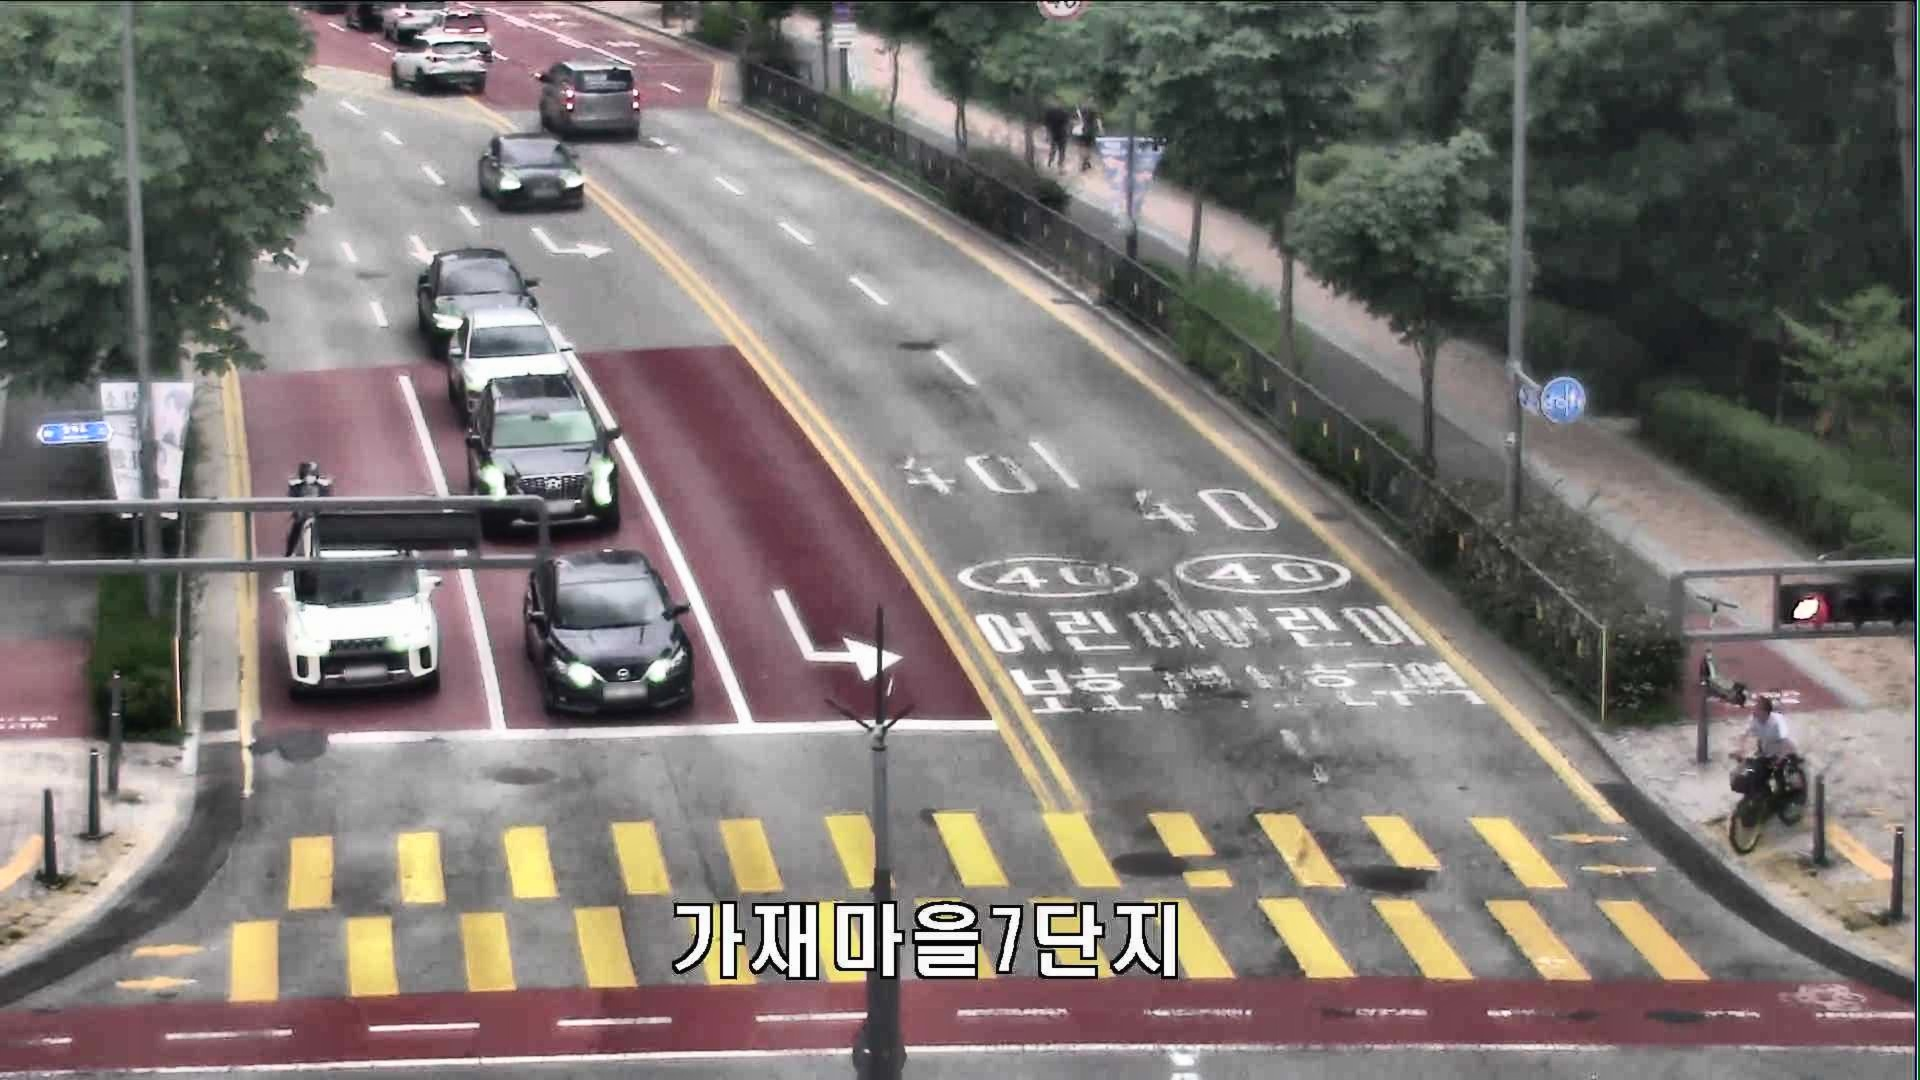sidewalk: (1727, 686, 1804, 810), (1069, 94, 1102, 175), (1039, 95, 1072, 175)
